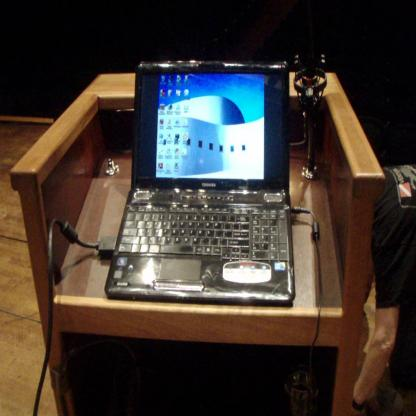board: (103, 56, 297, 303)
